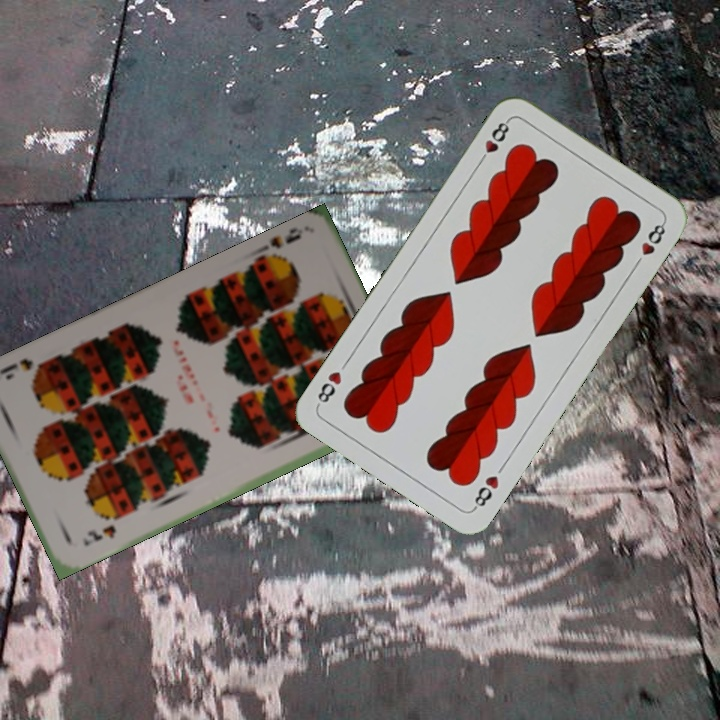H8: (474, 115, 513, 168), (468, 471, 502, 513)
S9: (252, 223, 306, 263), (79, 521, 119, 549)
